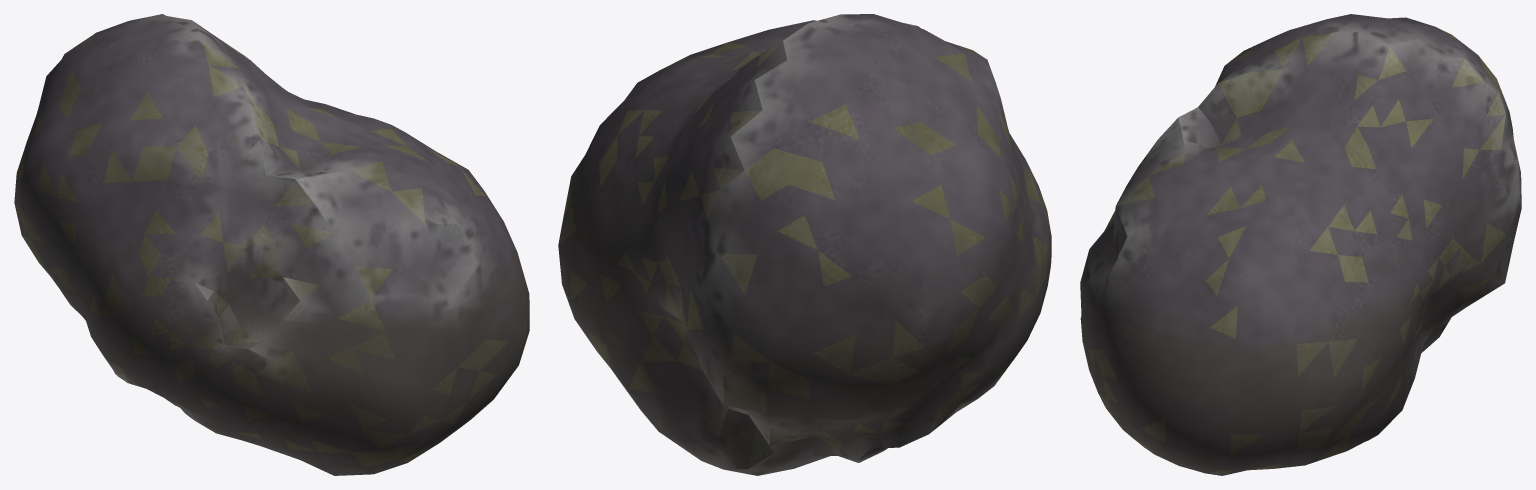
The model's file is small-carbonic-asteroid.glb.
The picture shows the model from 3 angles, left to right: view 1: azimuth 30°, elevation 25°; view 2: azimuth 150°, elevation 25°; view 3: azimuth 270°, elevation 25°; orthographic projection. The views are drawn at different scales.
Parts seen in each view (by area): view 1: body; view 2: body; view 3: body.
Boxes of the visible parts, left/top/right/bottom form: body: left=14, top=14, right=529, bottom=475; body: left=558, top=14, right=1051, bottom=475; body: left=1080, top=14, right=1521, bottom=475.
Bounding box in the file's own units: 1.53 × 1.46 × 1.5.
Materials: 1 (1 with a texture image).
